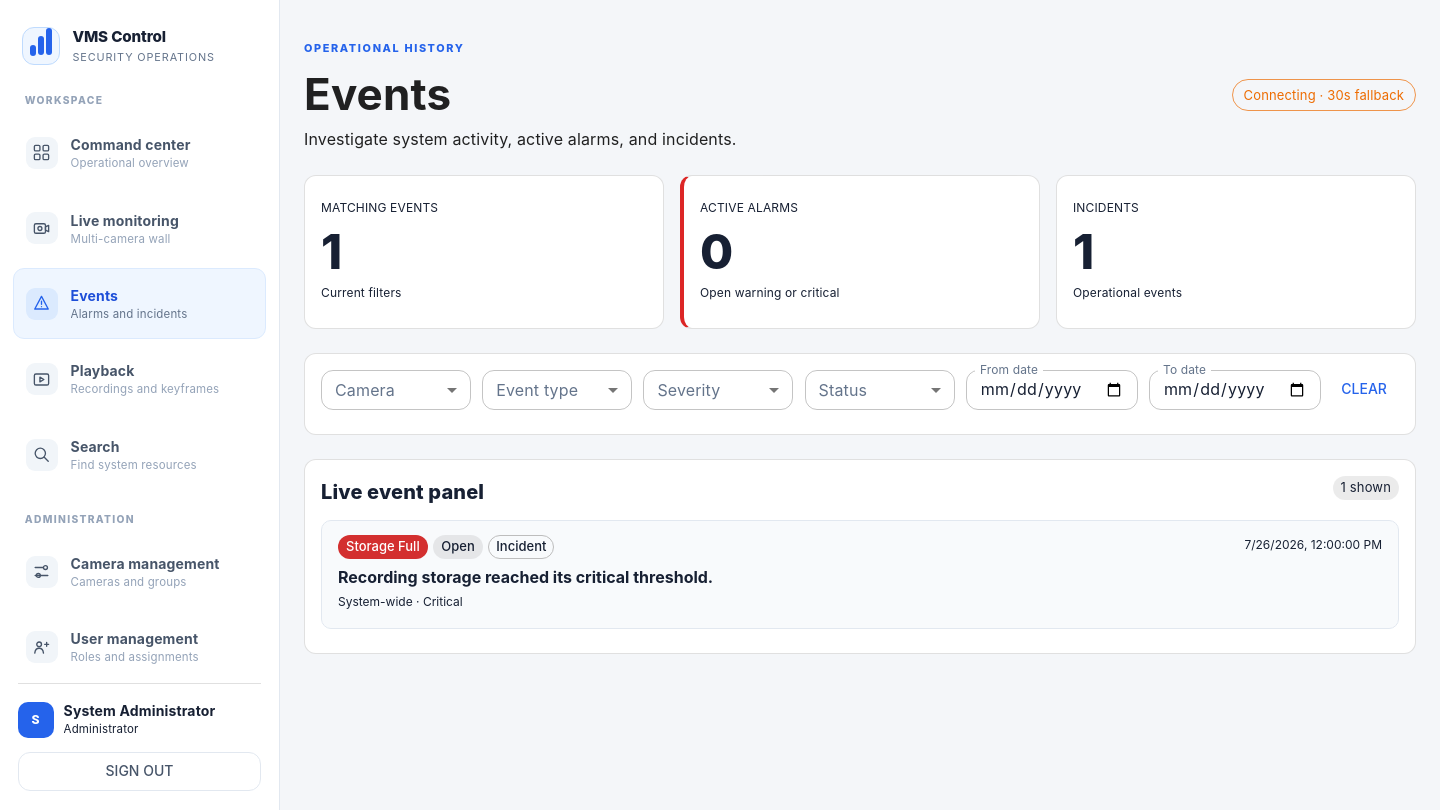
Scenario: authentication and authorization UI › filters, inspects, and closes an active event
Expected: the heading "Events" is shown, [304, 66, 451, 120]
Expected: the heading "Live event panel" is shown, [321, 476, 484, 508]
Click the button that starts with "Storage Full". click: click(383, 547)
box: [321, 520, 1399, 628]
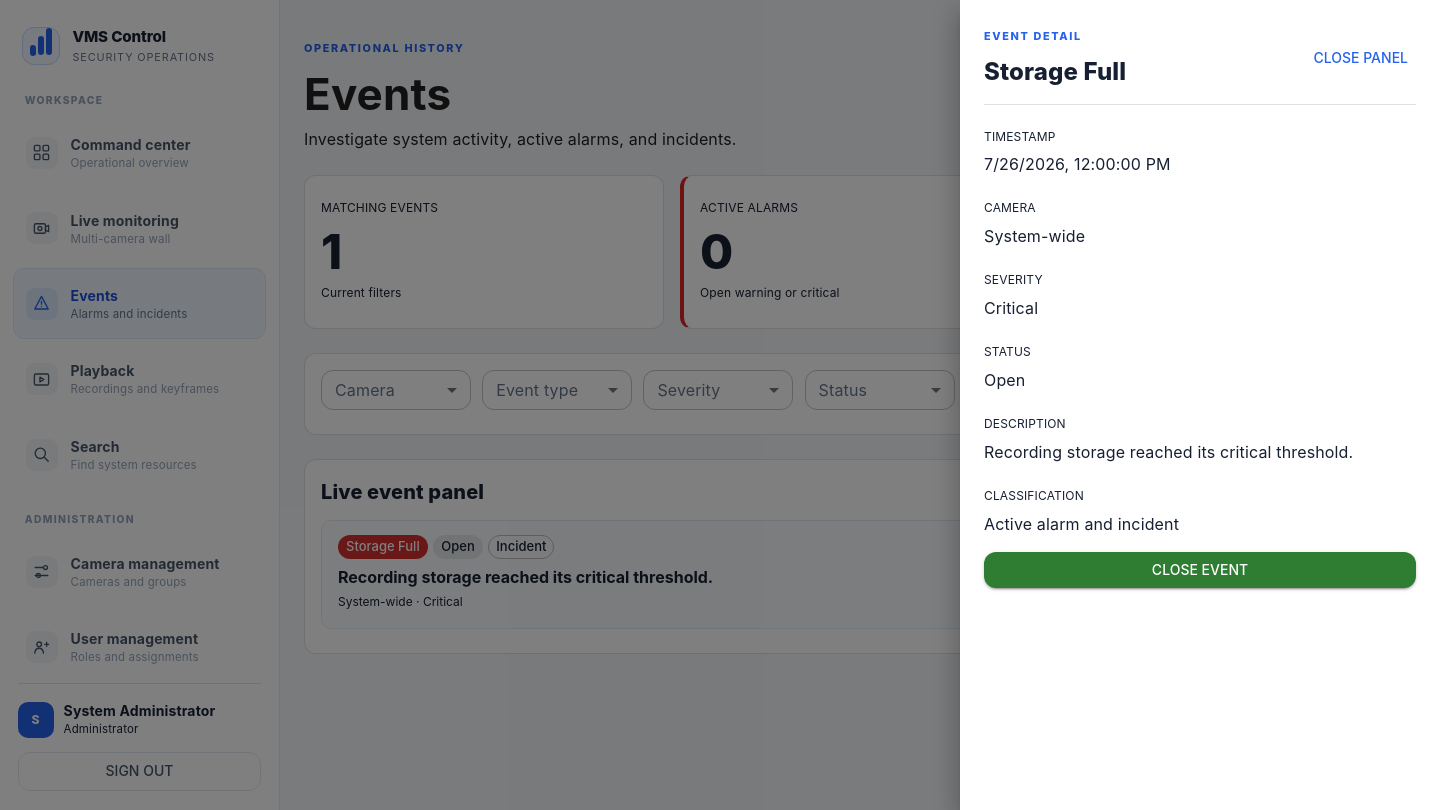
Result: the text "Event detail" is shown at [984, 29, 1082, 43]
Result: the text "Active alarm and incident" is shown at [984, 514, 1179, 534]
Click the button "Close event". click: click(1200, 570)
box: [984, 552, 1416, 588]
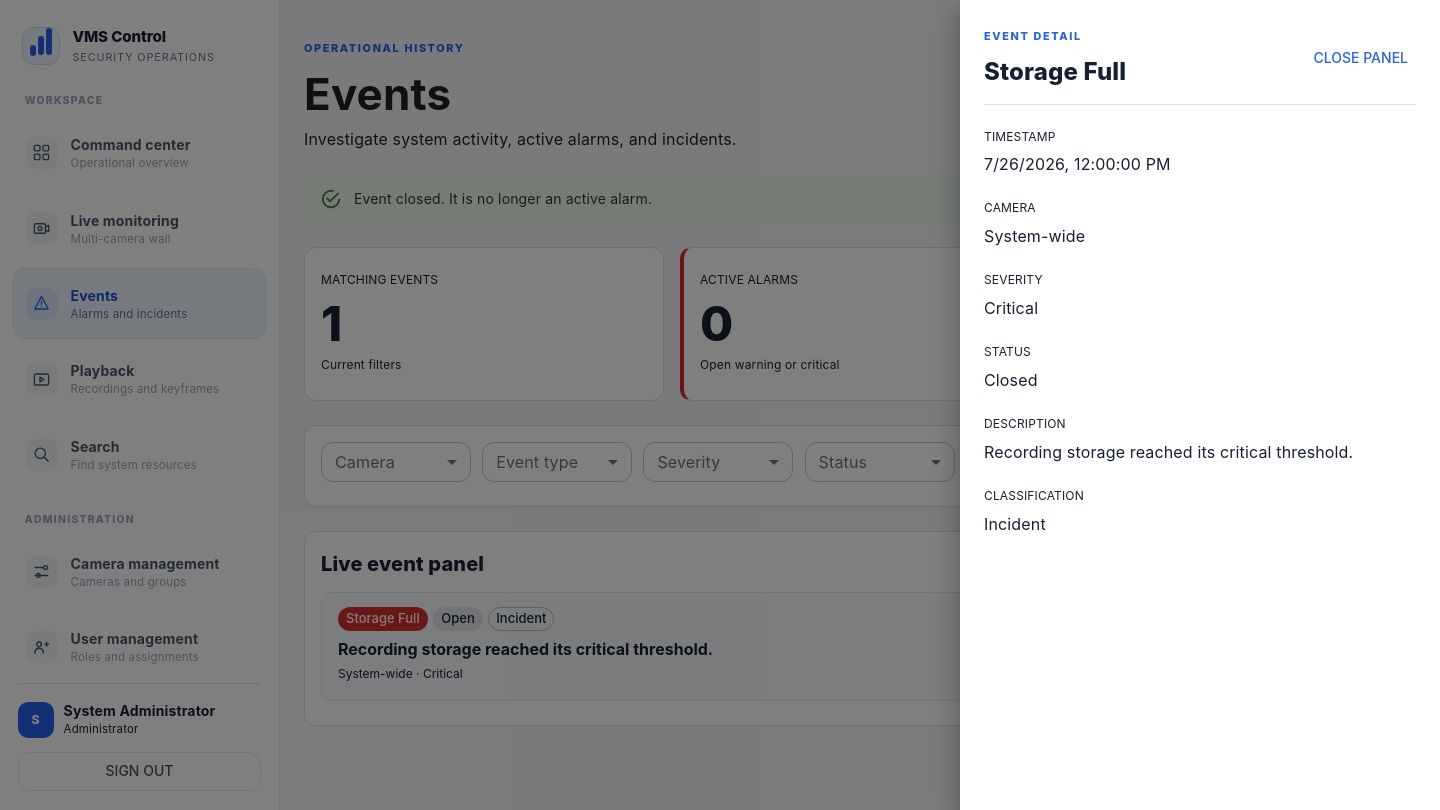
Result: the text "Event closed. It is no longer an active alarm." is shown at [354, 190, 652, 207]
Result: the button "Close event" is gone
